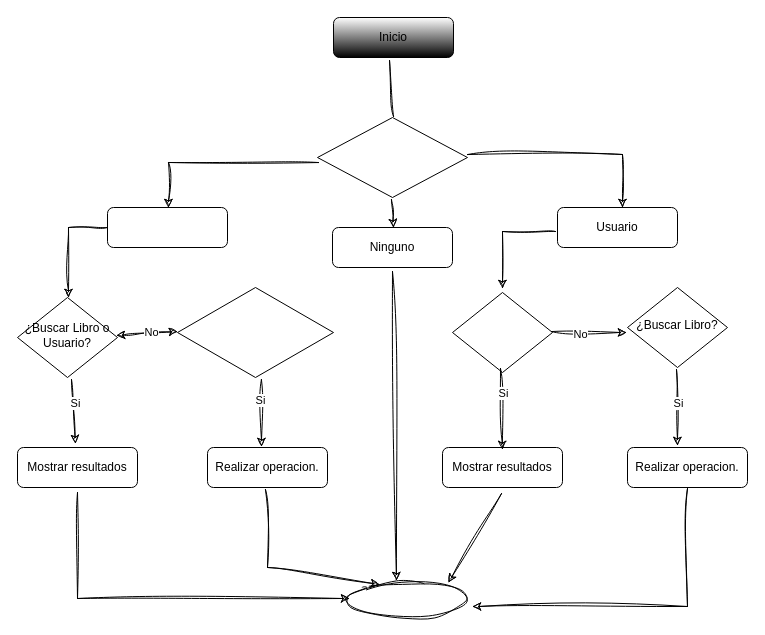
This 765x635 diagram has some shape labels left out. Each missing label, with the box of its shape:
Administrdor: (106, 206, 228, 248)
Fin: (346, 582, 468, 618)
¿Agregar/Modificar/Eliminar Libro o Usuario?: (176, 286, 334, 378)
¿Eres administrador o usuario?: (316, 116, 468, 198)
¿Registrar o Devolver Libro?: (452, 292, 552, 372)
